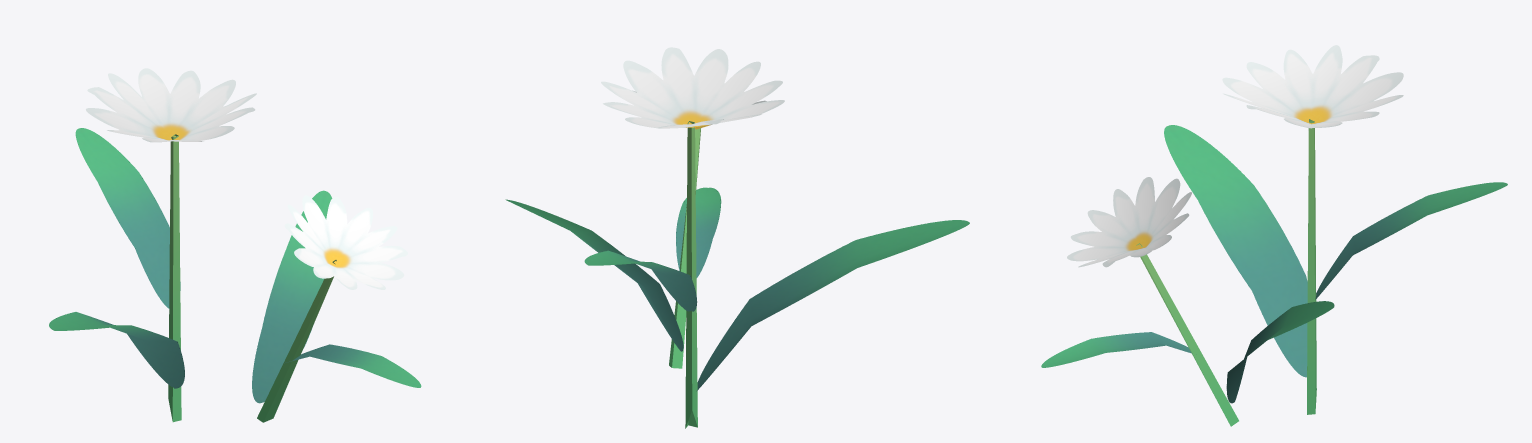
The model's file is flower2.fbx.
The picture shows the model from 3 angles, left to right: view 1: azimuth 30°, elevation 25°; view 2: azimuth 150°, elevation 25°; view 3: azimuth 270°, elevation 25°; orthographic projection. The views are drawn at different scales.
Visible parts, largest first — view 1: Flower, Flower.001, Leaf1, Leaf2.001, Leaf2, Stem, Leaf1.001, Stem.001; view 2: Flower, Leaf2, Stem, Leaf2.001, Leaf1.001, Leaf1, Stem.001; view 3: Leaf2, Flower, Flower.001, Leaf1, Stem, Leaf1.001, Leaf2.001, Stem.001.
Part boxes in pixels (x1,y1,x2,y2): Flower: (86,68,256,142); Flower.001: (284,195,407,289); Leaf1: (75,128,180,308); Leaf2.001: (252,190,332,403); Leaf2: (49,312,184,388); Stem: (168,134,181,422); Leaf1.001: (283,344,421,387); Stem.001: (257,260,336,422); Flower: (601,47,784,128); Leaf2: (696,220,969,391); Stem: (685,121,697,428); Leaf2.001: (505,199,683,351); Leaf1.001: (676,187,721,277); Leaf1: (584,250,697,311); Stem.001: (669,128,700,368); Leaf2: (1164,125,1307,377); Flower: (1222,45,1403,128); Flower.001: (1067,177,1191,267); Leaf1: (1315,182,1507,299); Stem: (1307,119,1316,414); Leaf1.001: (1041,332,1191,367); Leaf2.001: (1226,301,1334,403); Stem.001: (1136,243,1238,426).
Size of the model in its own units: 61.68 by 49.84 by 65.31.
